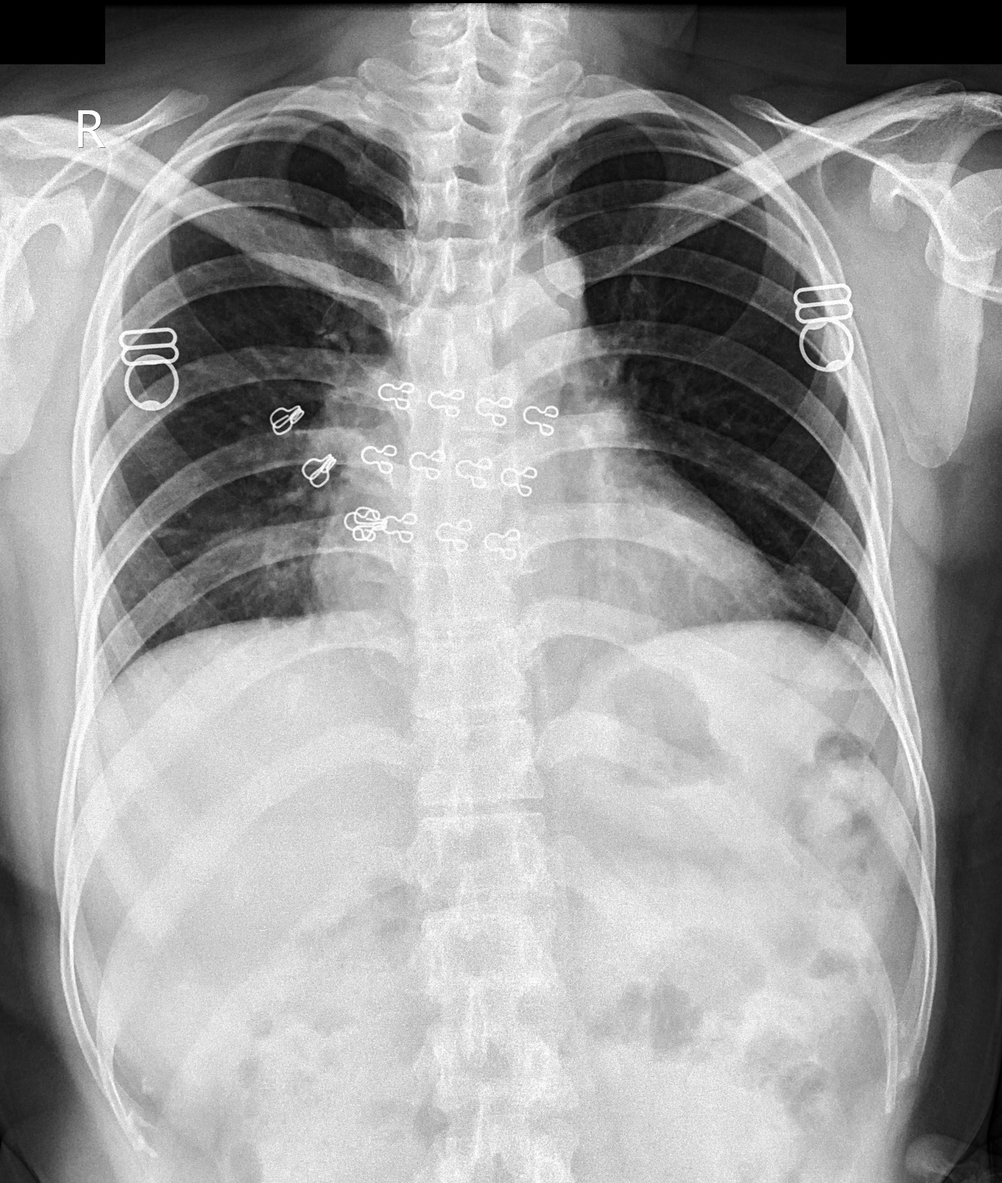Cardiomegaly: (303, 499, 794, 637)
